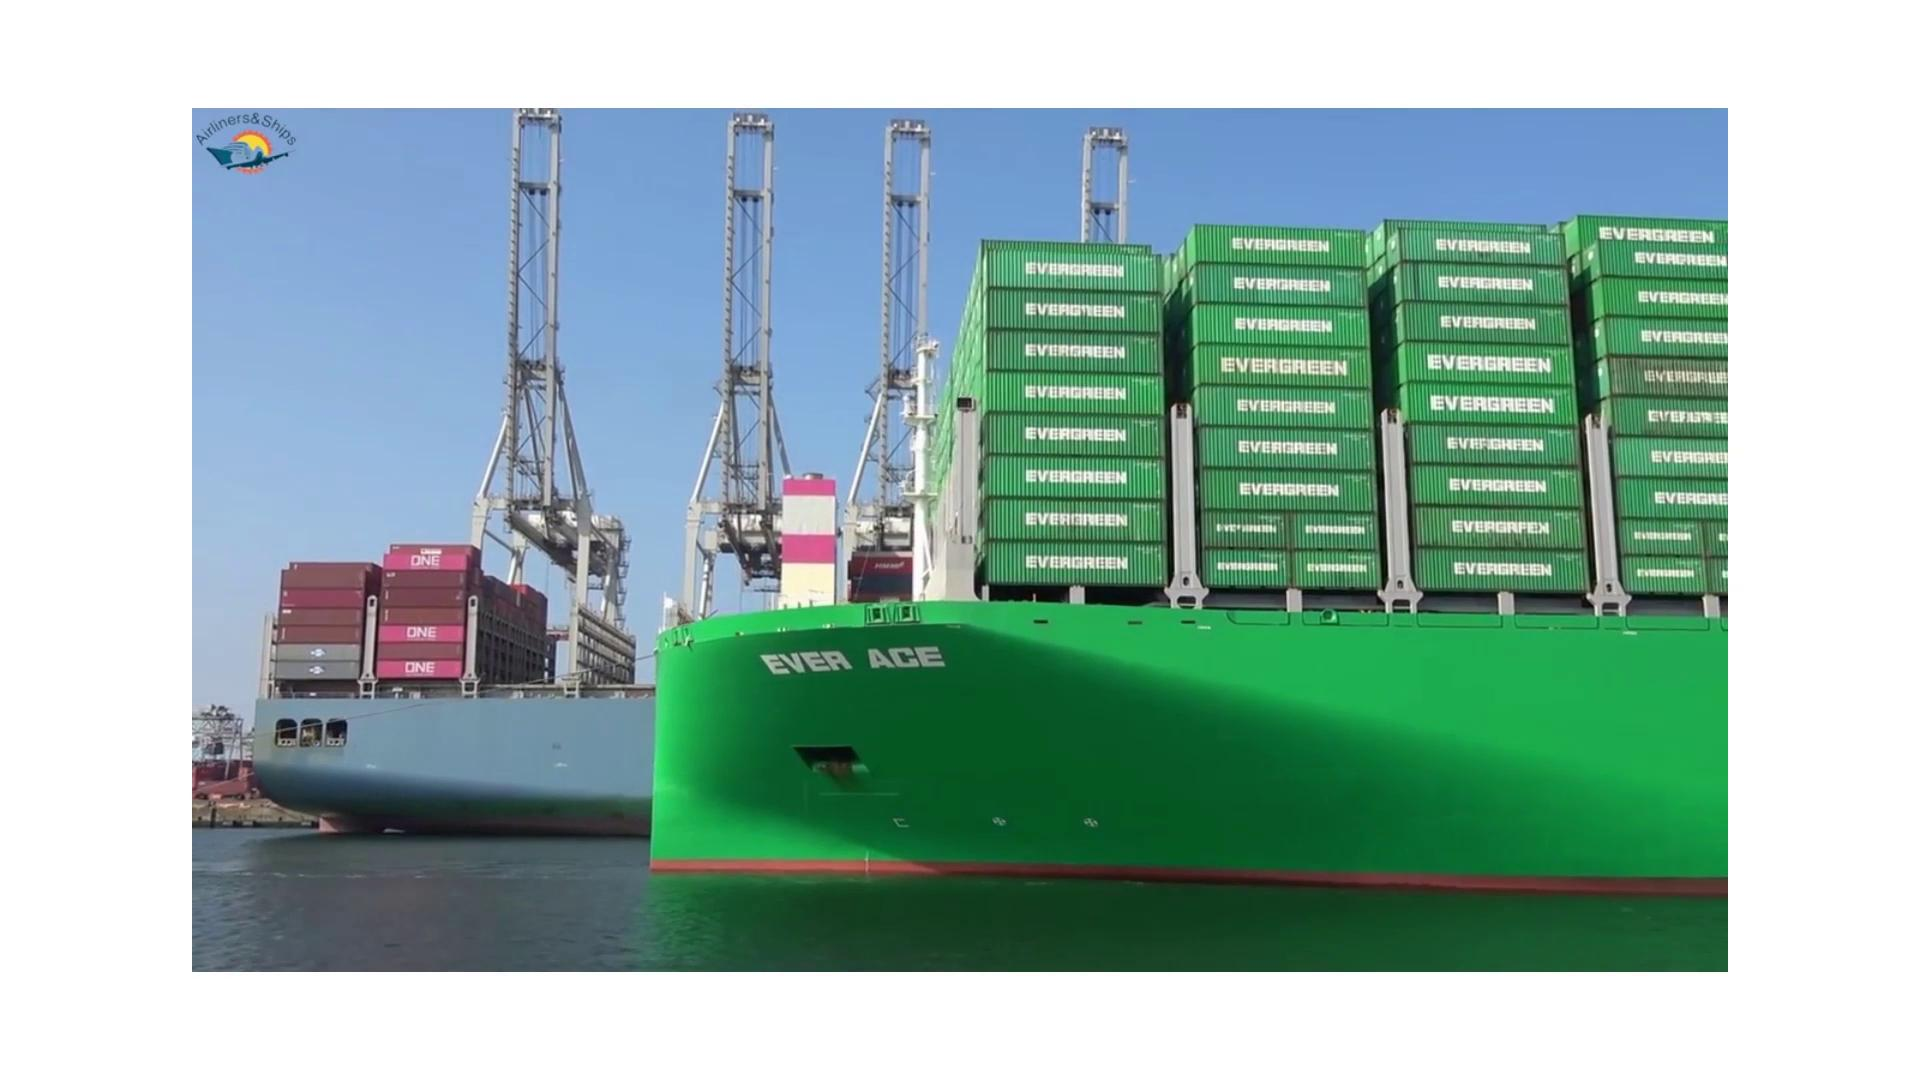OCR: (727, 618, 965, 692)
